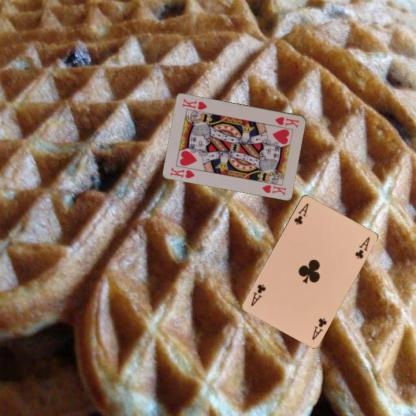Ac: (291, 200, 310, 226), (309, 315, 328, 341)
Kh: (168, 164, 196, 180), (273, 114, 300, 129)
